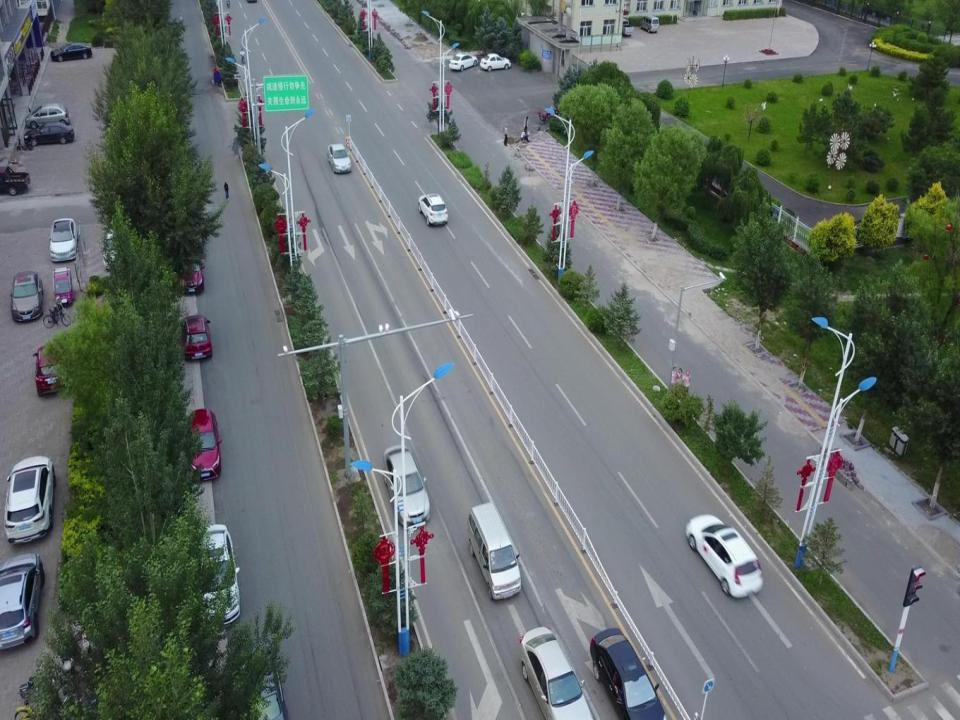car: (589, 627, 667, 720), (518, 625, 594, 719), (685, 511, 763, 598), (189, 523, 239, 627), (0, 550, 44, 655), (4, 456, 54, 543), (382, 442, 430, 526), (237, 642, 285, 720), (182, 406, 220, 482), (32, 341, 67, 395), (10, 270, 42, 322), (178, 316, 213, 362), (176, 242, 204, 294), (24, 121, 75, 147), (49, 218, 78, 262), (25, 103, 70, 128), (418, 193, 447, 226), (103, 228, 124, 271), (50, 42, 92, 63), (53, 267, 74, 305), (327, 143, 351, 173), (479, 52, 511, 70), (449, 52, 477, 72)
truck: (0, 166, 30, 194), (614, 19, 634, 37)
van: (468, 502, 521, 602), (639, 14, 659, 32)
